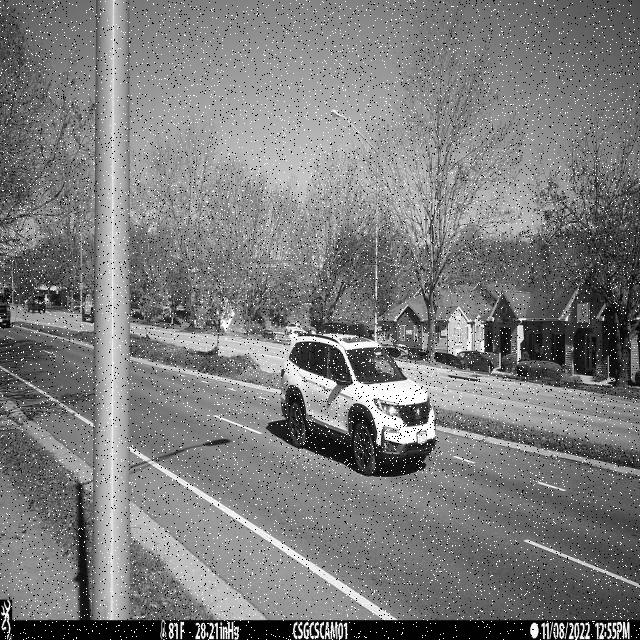SUV: (280, 333, 437, 476)
